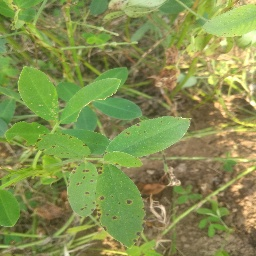GroundNut_Leaf: (102, 115, 192, 157), (100, 162, 145, 246), (18, 66, 59, 125), (66, 78, 120, 113), (202, 3, 256, 38), (67, 160, 98, 217), (32, 135, 92, 159), (1, 191, 21, 229), (121, 1, 159, 19), (1, 1, 35, 20), (1, 98, 15, 135), (1, 56, 12, 89), (161, 1, 194, 12), (89, 1, 110, 15), (86, 34, 110, 42)
